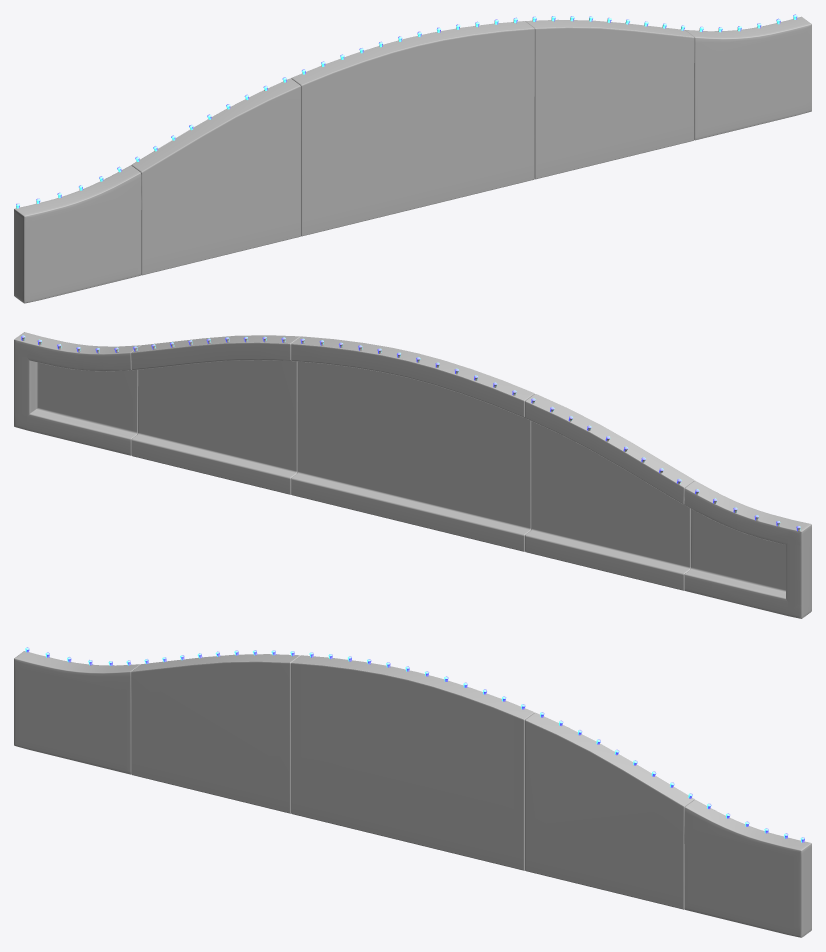
Rendered from SM_BumperCar_Side_01a.fbx.
3 renders of one model, top to bottom at view 1: azimuth 30°, elevation 25°; view 2: azimuth 150°, elevation 25°; view 3: azimuth 330°, elevation 25°, orthographic.
Parts seen in each view (by area): view 1: SM_BumperCar_Side_01a_LOD0; view 2: SM_BumperCar_Side_01a_LOD0; view 3: SM_BumperCar_Side_01a_LOD0.
Part boxes in pixels (x1,y1,x2,y2): SM_BumperCar_Side_01a_LOD0: (14,14,811,303); SM_BumperCar_Side_01a_LOD0: (14,332,811,618); SM_BumperCar_Side_01a_LOD0: (14,647,811,937).
Bounding box in the file's own units: 2272 × 55.96 × 461.
